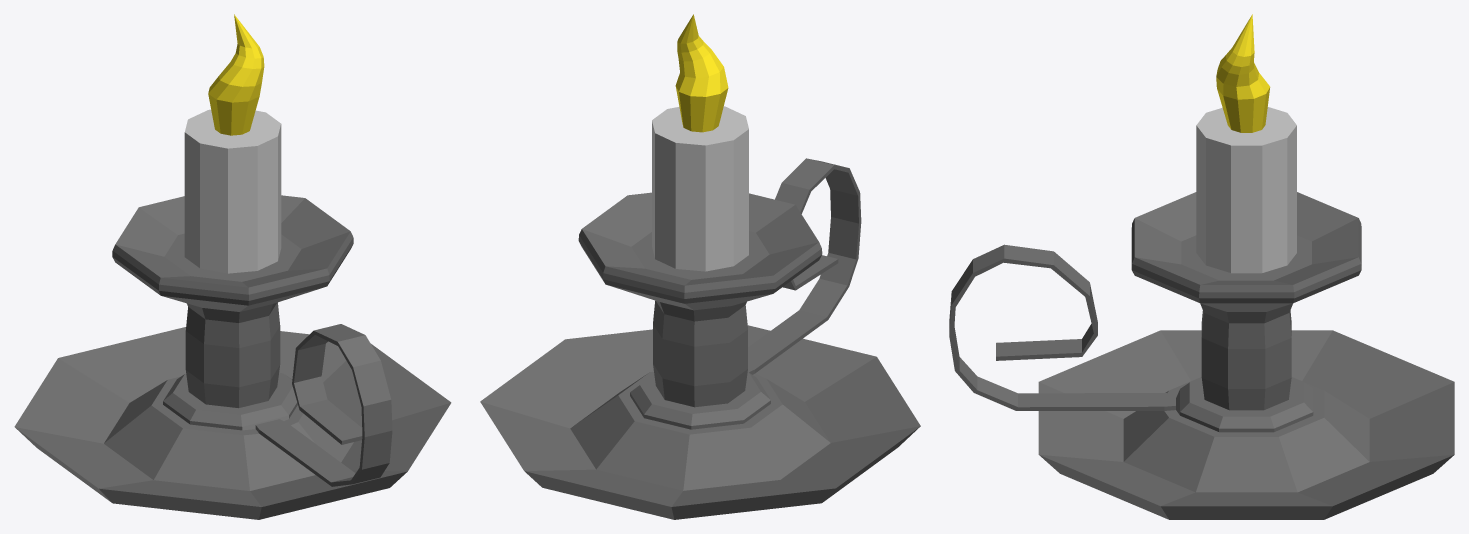
The model's file is Candle_Holder.fbx.
3 views of the same model, side by side, from view 1: azimuth 30°, elevation 25°; view 2: azimuth 150°, elevation 25°; view 3: azimuth 270°, elevation 25° (orthographic). The views are drawn at different scales.
Parts seen in each view (by area): view 1: Porta_Velas; view 2: Porta_Velas; view 3: Porta_Velas.
Boxes of the visible parts, x1,y1,x2,y2 form: Porta_Velas: (14,14,451,519); Porta_Velas: (480,14,920,519); Porta_Velas: (949,14,1454,519).
Bounding box in the file's own units: 57.88 × 66.47 × 70.32.
